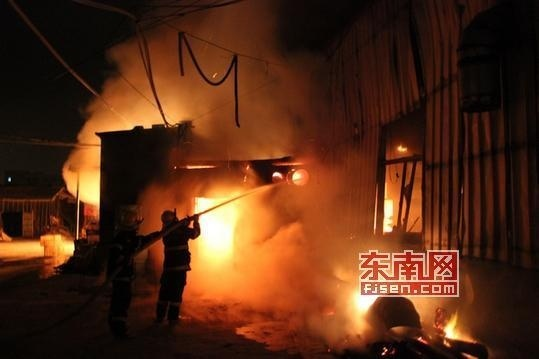fire: (189, 193, 241, 255), (440, 313, 470, 345), (380, 196, 395, 230), (351, 289, 374, 311)
